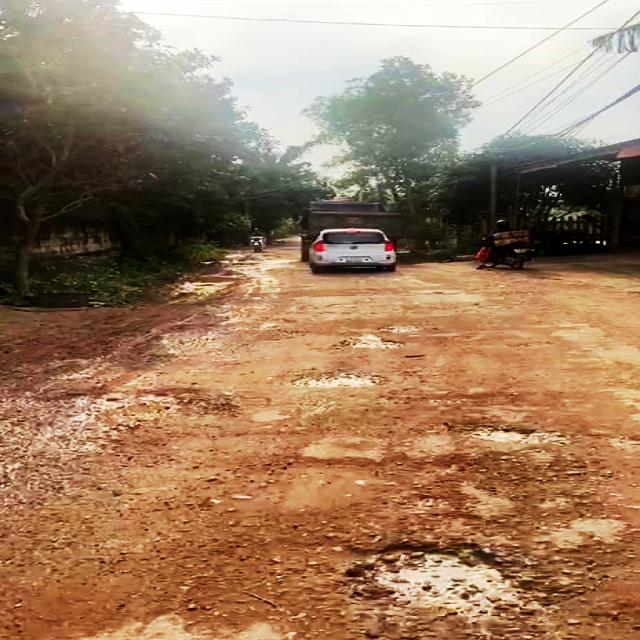pothole: (326, 536, 550, 626), (38, 387, 232, 446), (454, 417, 558, 449), (287, 369, 389, 391), (328, 331, 403, 351), (382, 324, 422, 334)
